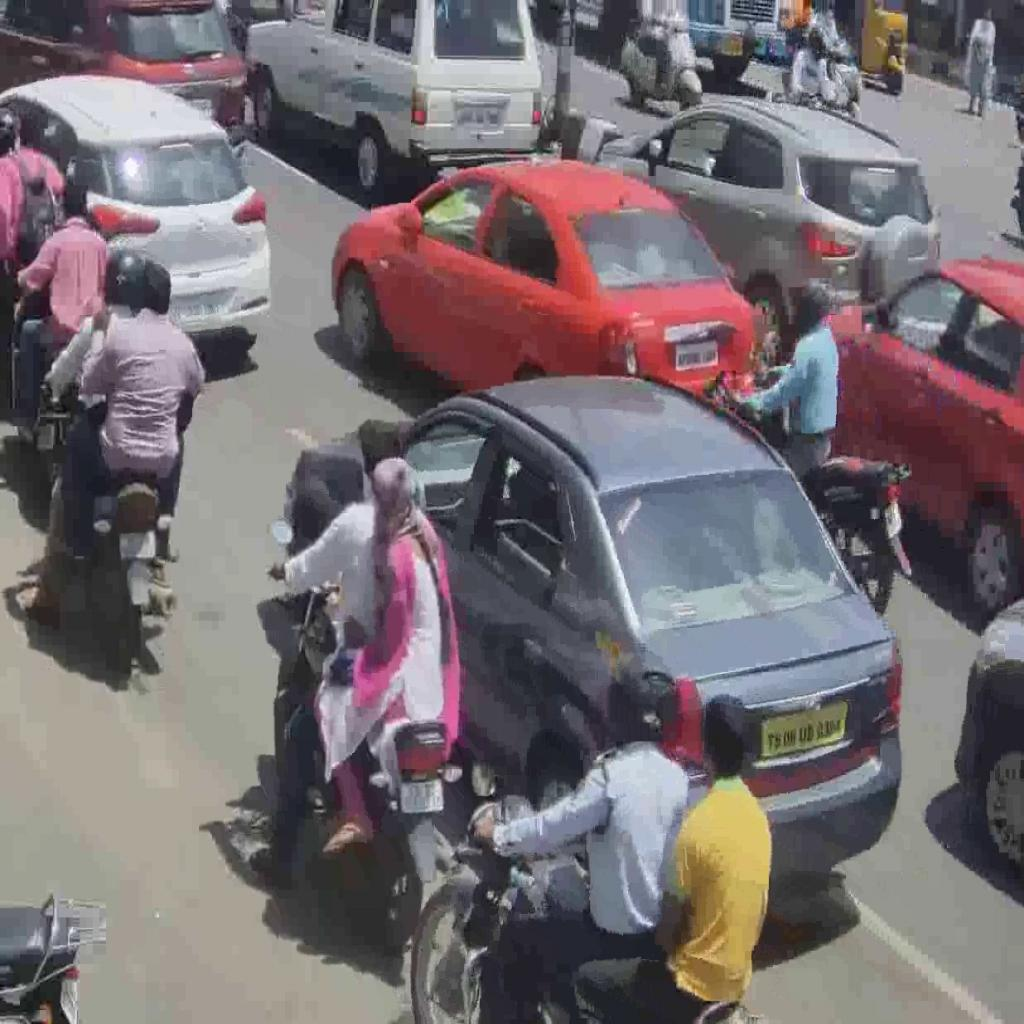helmet: (408, 784, 749, 1024), (272, 538, 458, 955), (706, 370, 914, 617), (55, 350, 180, 661)
